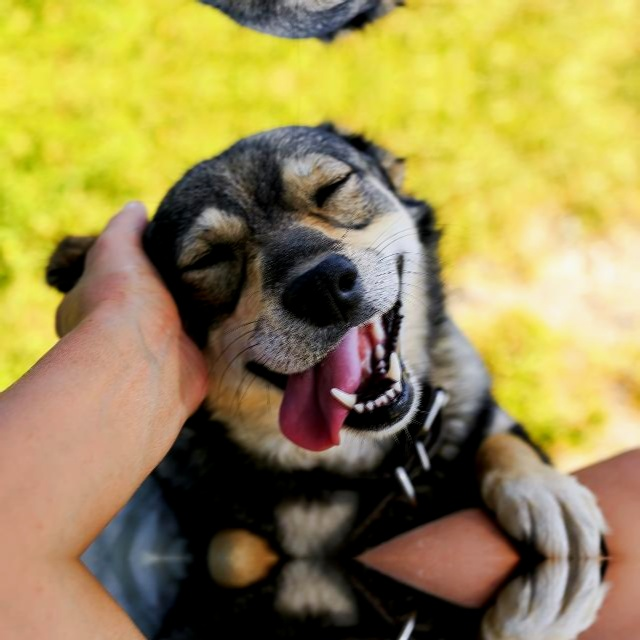dog: (123, 109, 487, 451), (123, 0, 487, 53)
